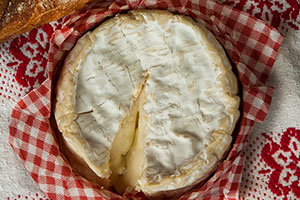camembert: (53, 7, 242, 199)
